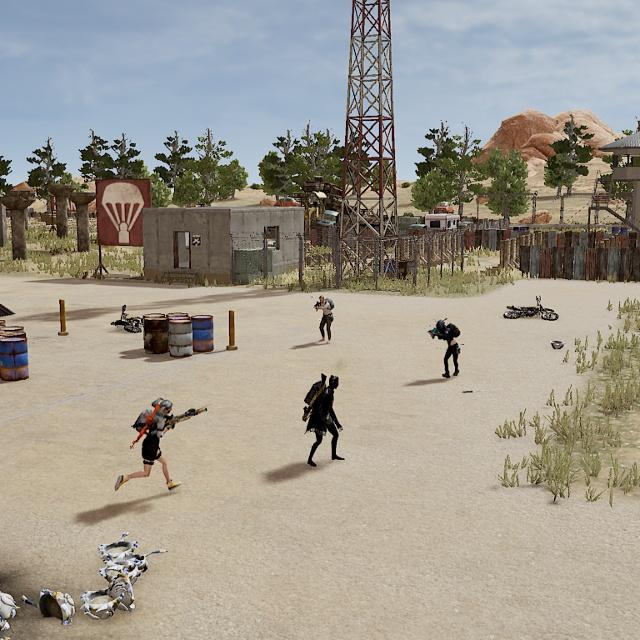head: (155, 397, 174, 417), (327, 372, 341, 392), (435, 316, 447, 332), (317, 292, 327, 306)
people: (110, 395, 190, 498), (295, 371, 354, 472), (426, 314, 468, 383), (310, 290, 338, 347)
